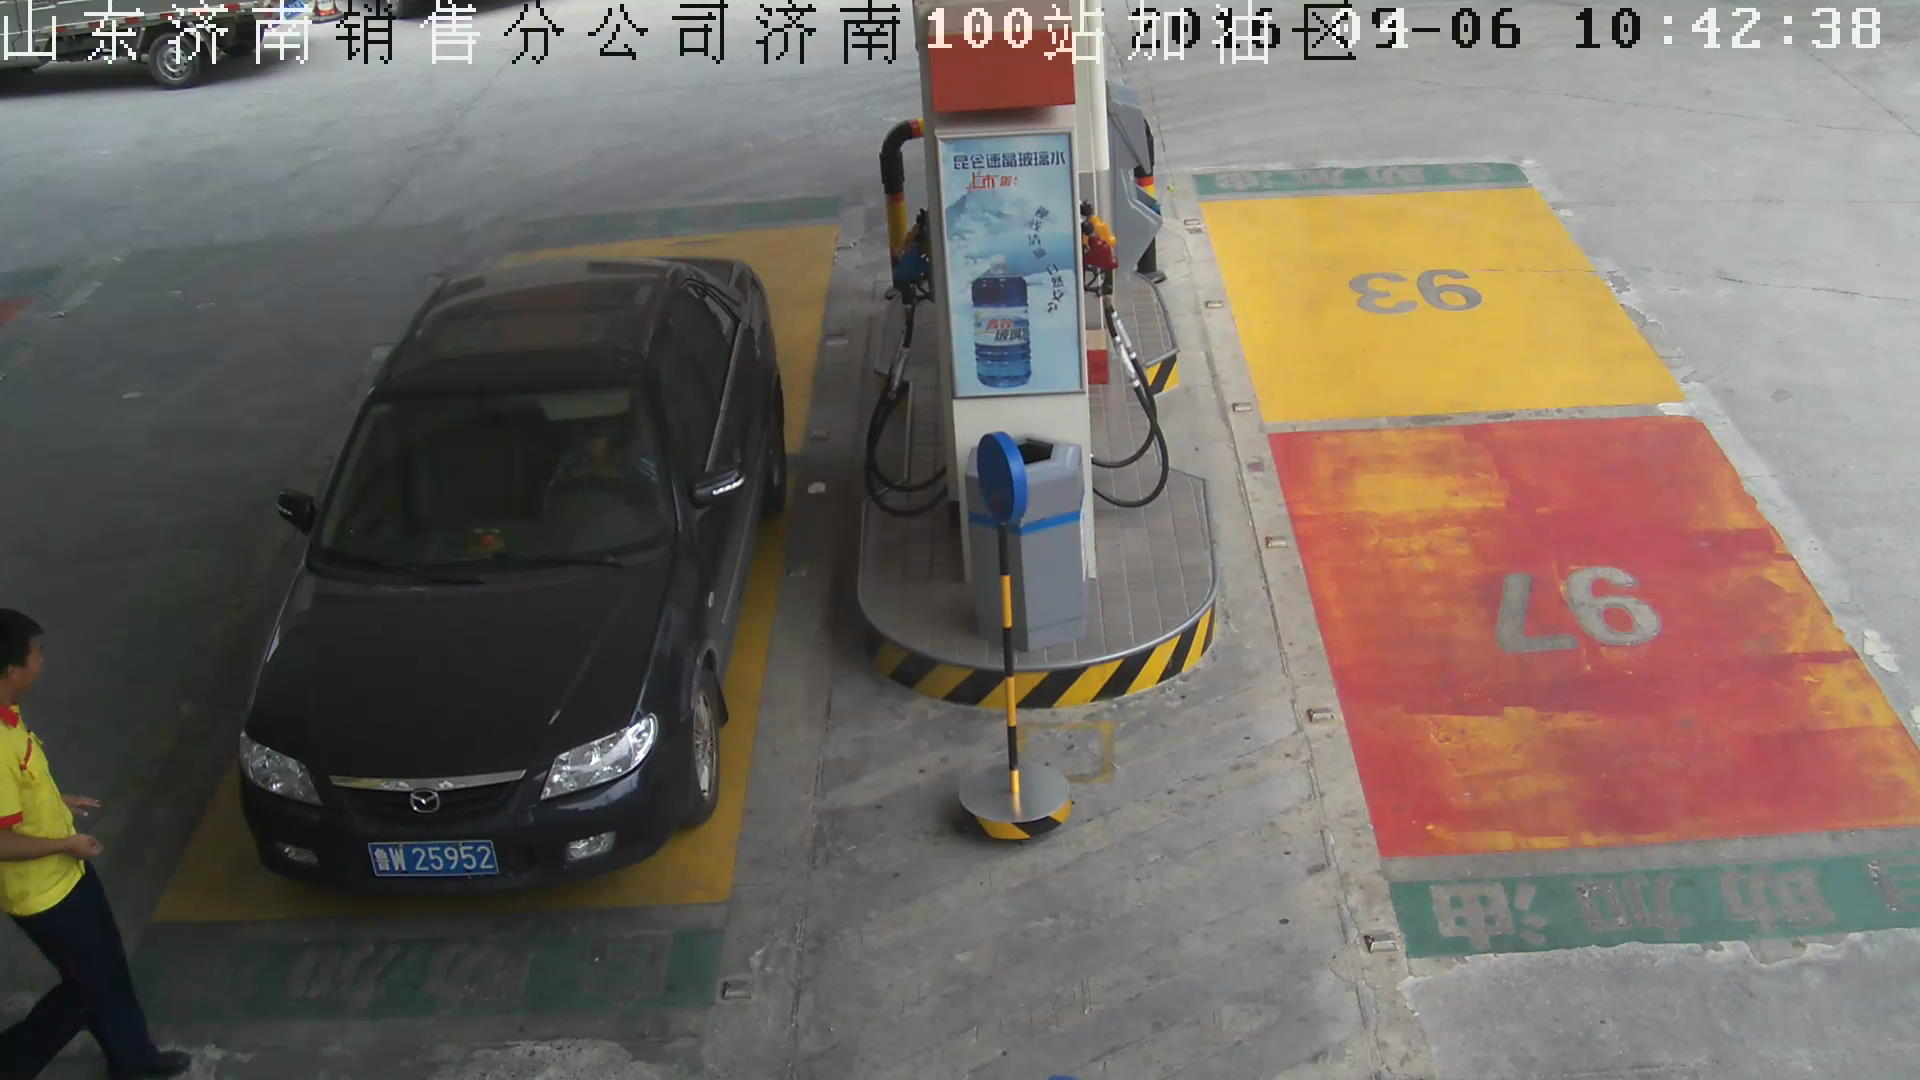blue: (368, 839, 506, 880)
